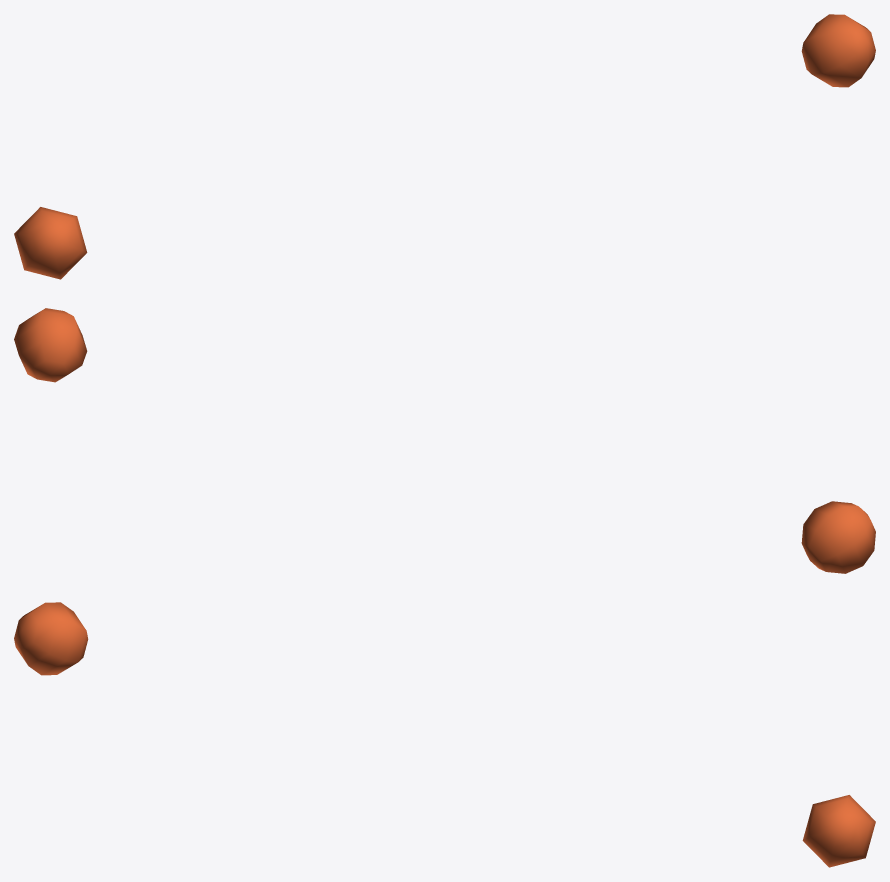
File: Earring_3.fbx
3 renders of one model, top to bottom at view 1: azimuth 30°, elevation 25°; view 2: azimuth 150°, elevation 25°; view 3: azimuth 330°, elevation 25°, orthographic.
Visible parts, largest first — view 1: Earring_3; view 2: Earring_3; view 3: Earring_3.
Part boxes in pixels (x1=…): Earring_3: x1=14, y1=14, x2=875, y2=279; Earring_3: x1=14, y1=308, x2=875, y2=573; Earring_3: x1=14, y1=602, x2=875, y2=867.
Size of the model in its own units: 55.2 by 4.16 by 4.08.
